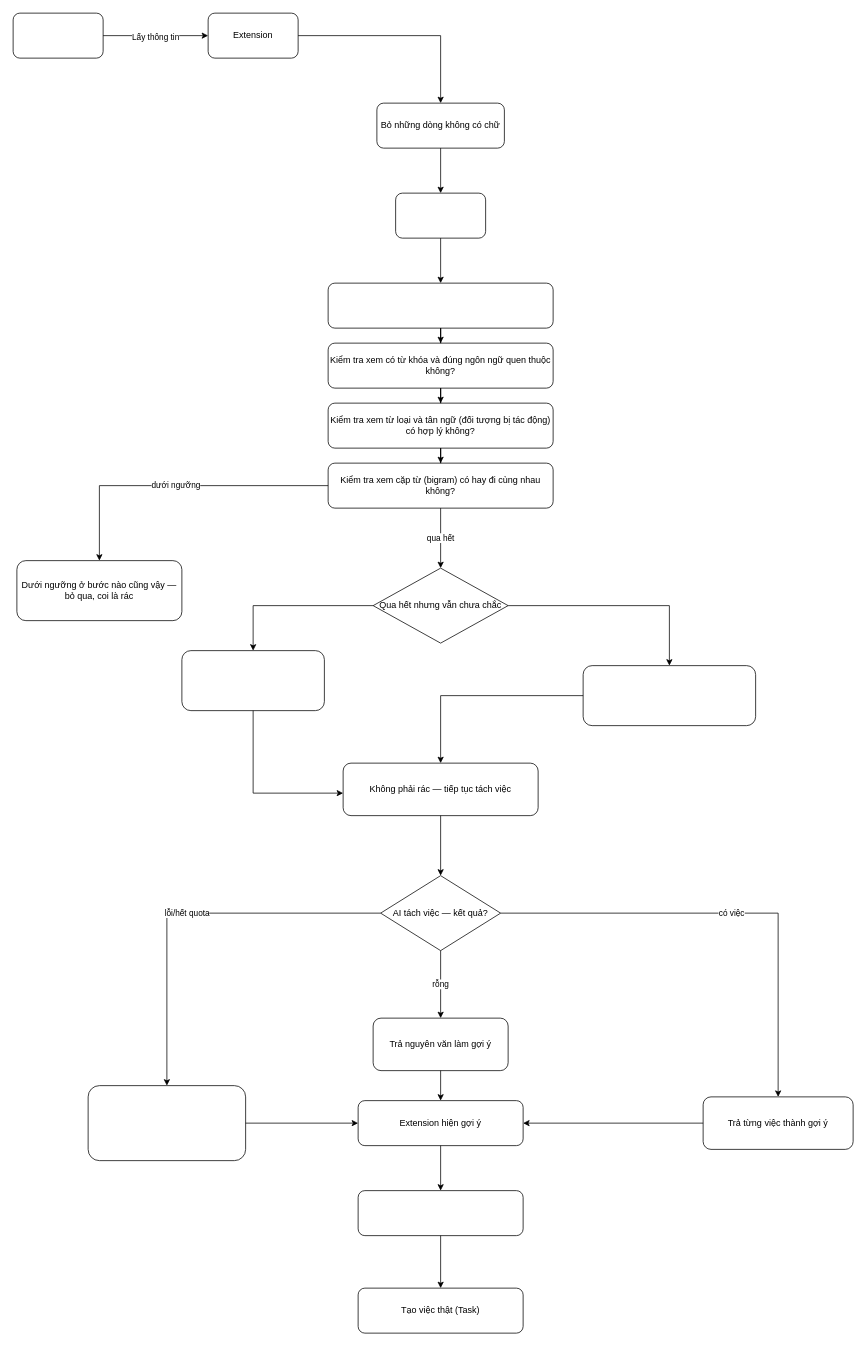
Some shapes in this 866 by 1346 pixel diagram are drawn without their labels. Each missing label, with the centre of its shape:
AI lỗi: tự quyết bằng quy tắc đơn giản trước, câu nào chưa chắc mới hỏi LLM: (166,1123)
Backend: (440,215)
Kiểm tra xem có chữ, đủ ký tự, đủ token không?: (440,305)
Lọc mềm qua LLM (đắt, chính xác cao): (252,680)
Model SVM rẻ tự học từ vài trăm mẫu đã gán nhãn sẵn (thay cho LLM đắt): (669,695)
Người dùng xác nhận: (440,1213)
Trình duyệt: (57,35)
